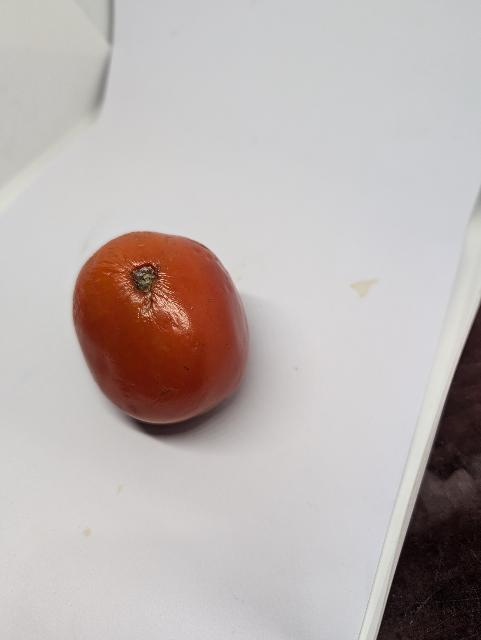defect: (69, 225, 253, 431)
